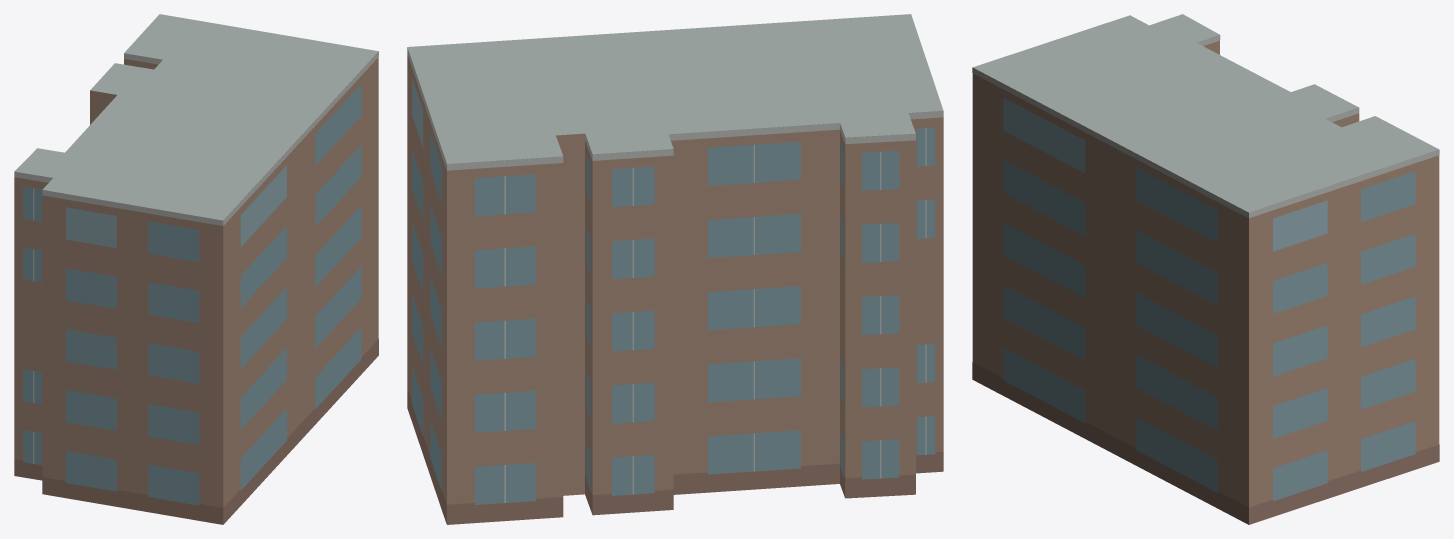
Rendered from survey-upis-32964871.glb.
3 views of the same model, side by side, from view 1: azimuth 30°, elevation 25°; view 2: azimuth 150°, elevation 25°; view 3: azimuth 270°, elevation 25° (orthographic). The views are drawn at different scales.
Visible parts, largest first — view 1: survey-upis-32964871.tmp; view 2: survey-upis-32964871.tmp; view 3: survey-upis-32964871.tmp.
Part boxes in pixels (x1=…): survey-upis-32964871.tmp: x1=14, y1=14, x2=378, y2=524; survey-upis-32964871.tmp: x1=407, y1=14, x2=943, y2=524; survey-upis-32964871.tmp: x1=972, y1=14, x2=1439, y2=524.
Bounding box in the file's own units: 18.16 × 13.3 × 18.03.
